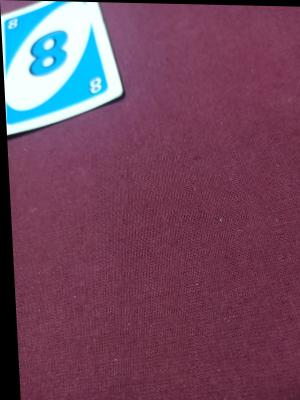blue: (3, 17, 102, 101)
num_8: (87, 77, 104, 96), (5, 17, 21, 32)
